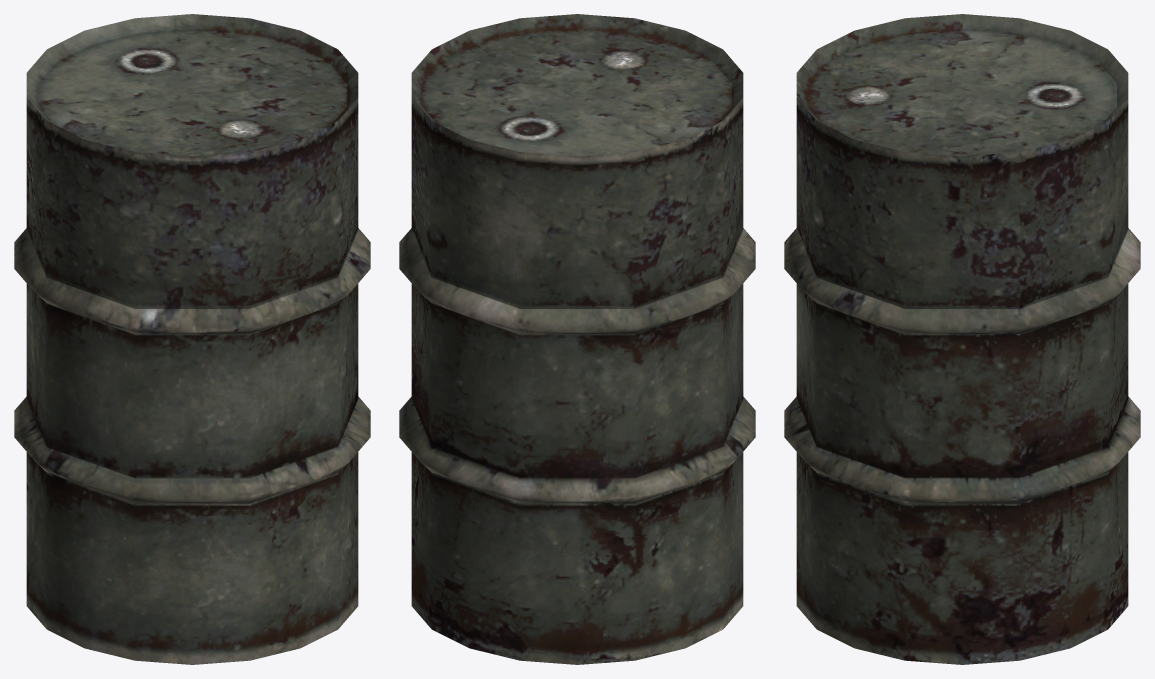
The model's file is dlc03barrel01.obj.
The picture shows the model from 3 angles, left to right: view 1: azimuth 30°, elevation 25°; view 2: azimuth 150°, elevation 25°; view 3: azimuth 270°, elevation 25°; orthographic projection.
Visible parts, largest first — view 1: dlc03barrel01; view 2: dlc03barrel01; view 3: dlc03barrel01.
Boxes of the visible parts, box(x1,y1,x2,y2) form: dlc03barrel01: box(14, 14, 370, 664); dlc03barrel01: box(399, 14, 755, 664); dlc03barrel01: box(784, 14, 1140, 664).
Size of the model in its own units: 64.49 by 100 by 63.51.
Materials: 1 (1 with a texture image).
